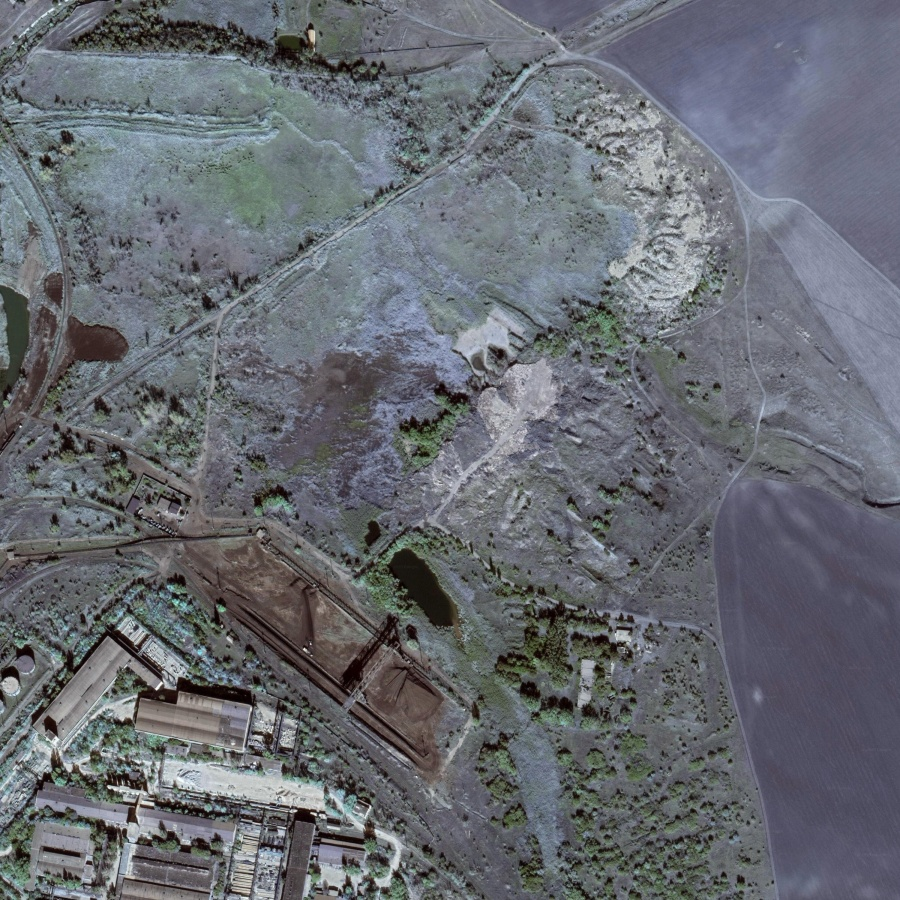PowerPlant: (159, 518, 449, 771)
